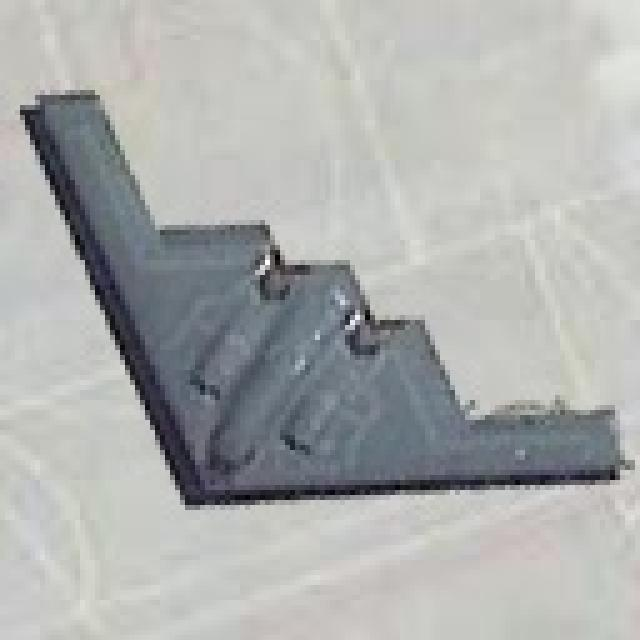B-2_TopDown: (15, 80, 635, 510)
